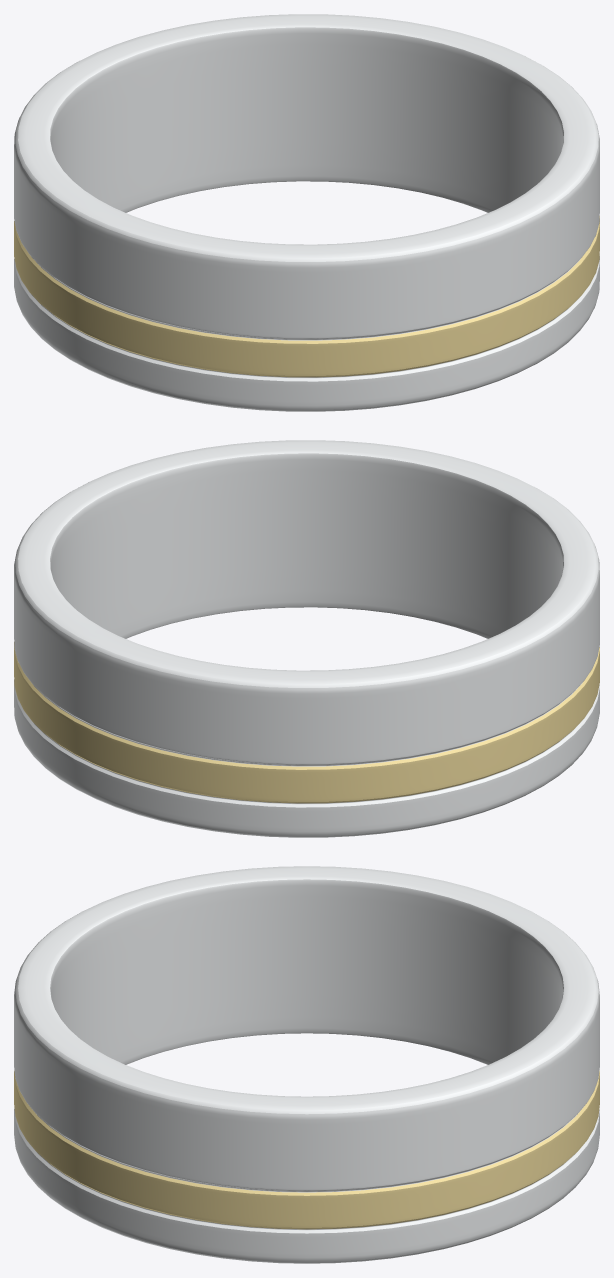
3 renders of one model, top to bottom at view 1: azimuth 30°, elevation 25°; view 2: azimuth 150°, elevation 25°; view 3: azimuth 270°, elevation 25°, orthographic.
Visible parts, largest first — view 1: Base_Metal, Engraving_Metal, Finishing_Metal; view 2: Base_Metal, Engraving_Metal, Finishing_Metal; view 3: Base_Metal, Engraving_Metal, Finishing_Metal.
Boxes of the visible parts, box(x1,y1,x2,y2) form: Base_Metal: box(14, 14, 599, 411); Engraving_Metal: box(50, 27, 563, 212); Finishing_Metal: box(14, 216, 599, 377); Base_Metal: box(14, 440, 599, 837); Engraving_Metal: box(50, 453, 563, 638); Finishing_Metal: box(14, 642, 599, 803); Base_Metal: box(14, 866, 599, 1263); Engraving_Metal: box(50, 879, 563, 1064); Finishing_Metal: box(14, 1070, 599, 1229).
Bounding box in the file's own units: 2.05 × 0.5998 × 2.05.
